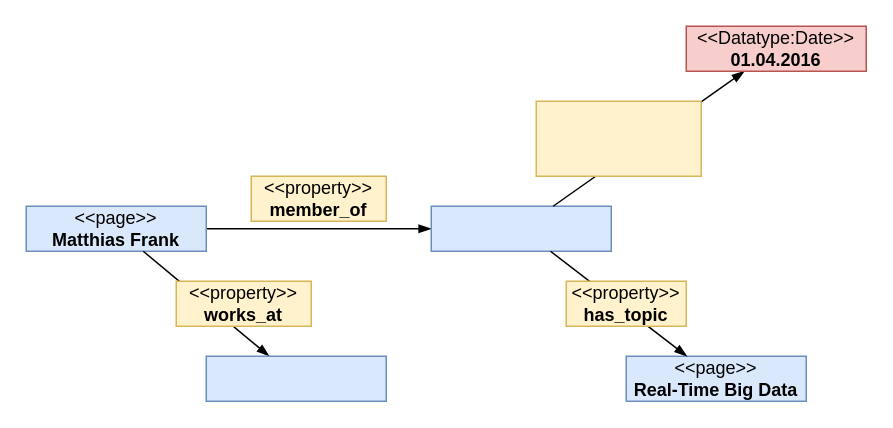
Some shapes in this 893 by 428 pixel diagram are drawn without their labels. Here are the shapes that lost their labels. From the top down, the centre of each, then its label:
the point at 618,138: <<property>> (has_Type::Date) start_date
the point at 520,228: <<page>> BigGIS
the point at 295,378: <<page>> FZI
